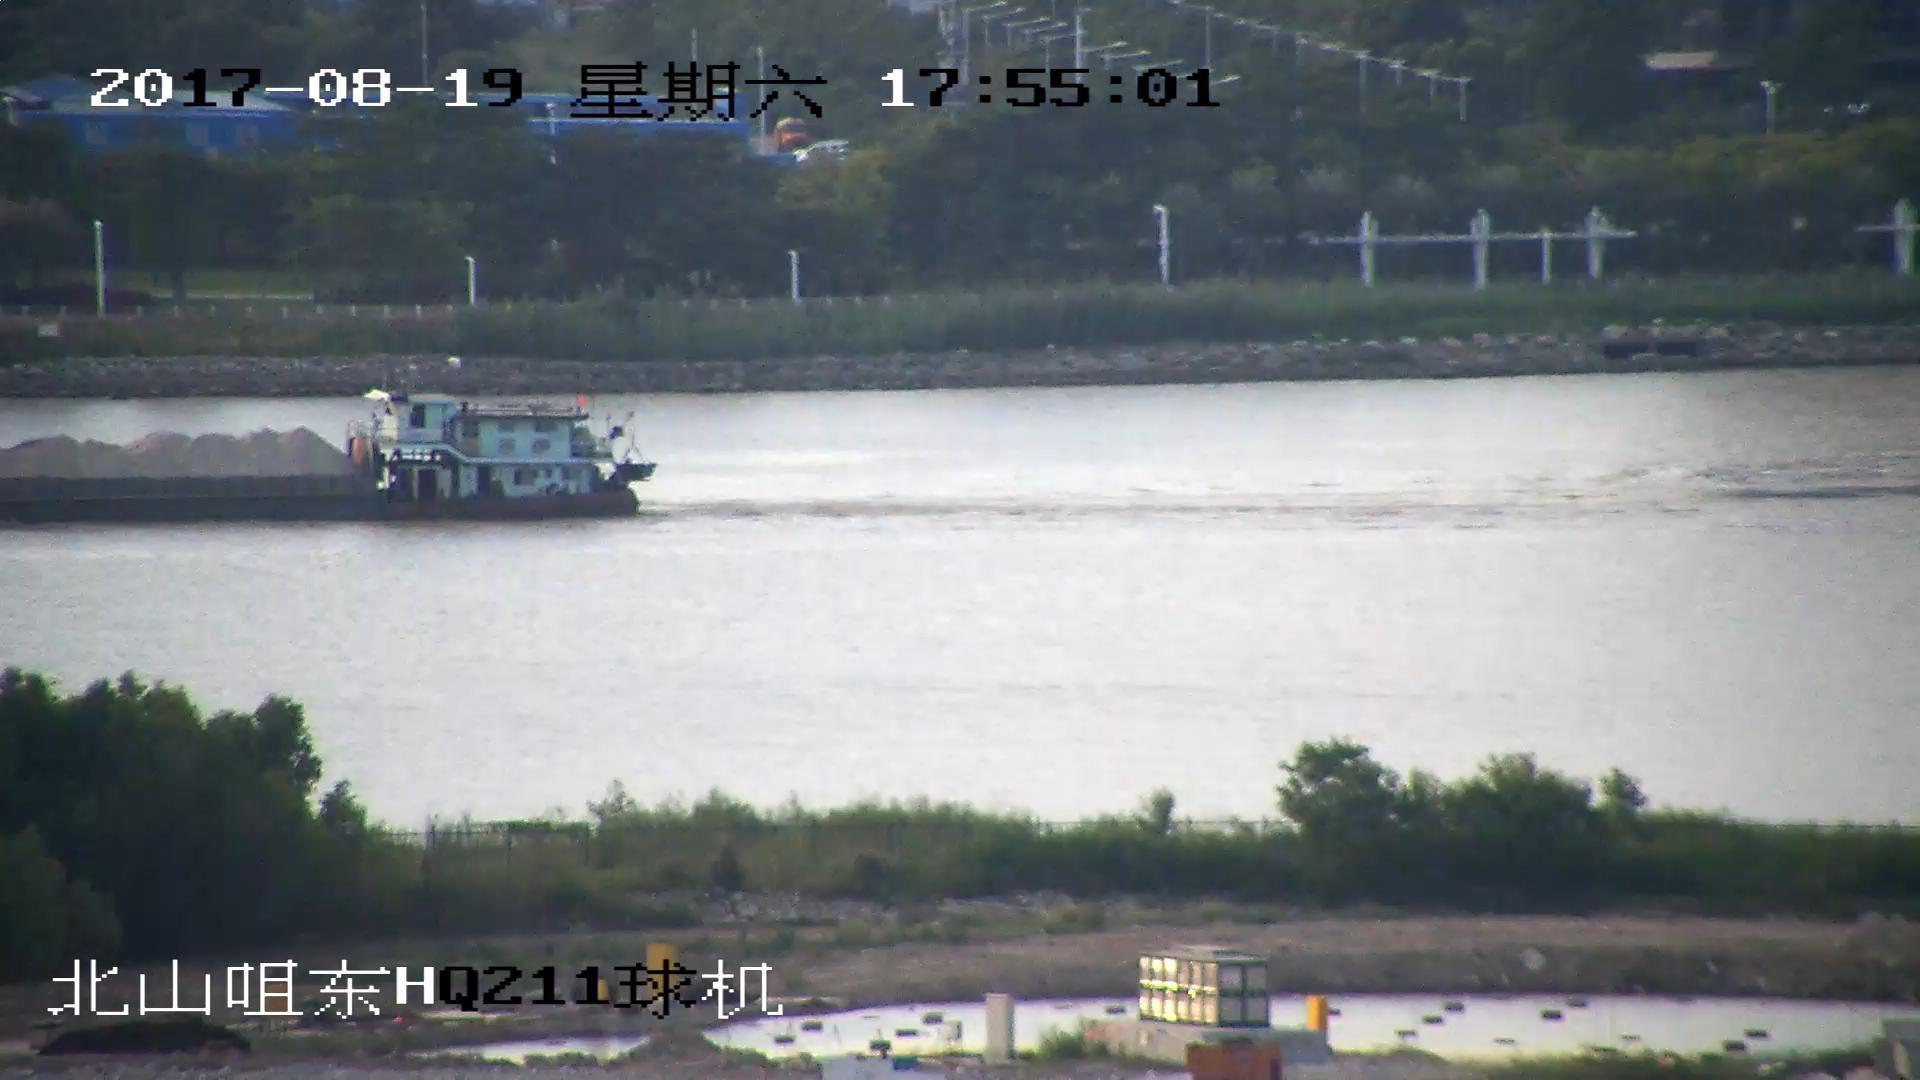ore carrier: (1, 384, 656, 524)
